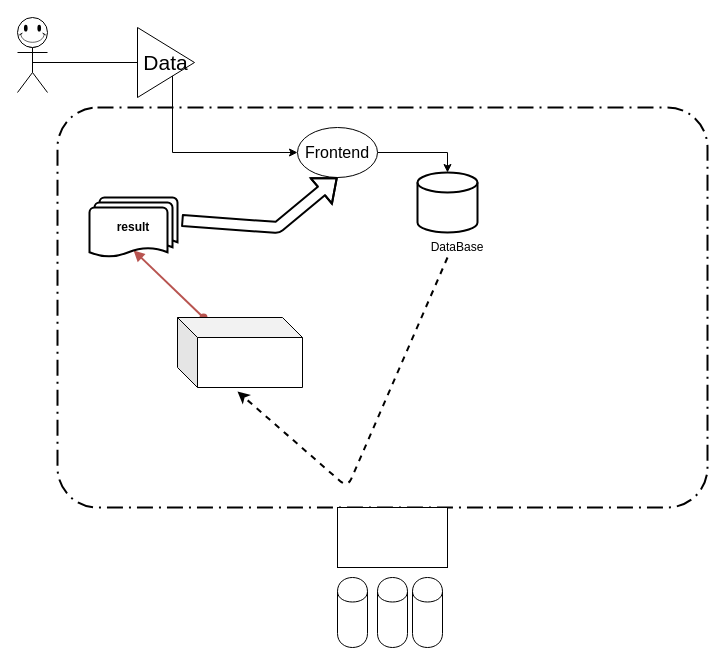
Image size: 726x665. Some labels were removed from this diagram. The shapes that lost their labels are listed below. From the top down, each one's centre as x and y in pixels, then its label:
At [239,352]: "'Black box'".
At [392,537]: "Docker conteiner".
